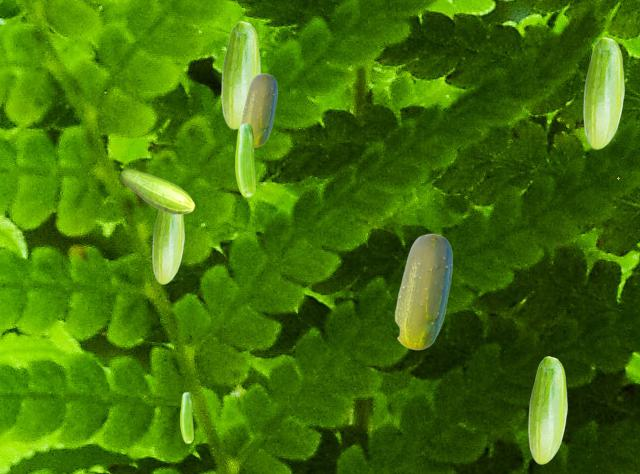cucumber: (394, 233, 451, 349), (583, 37, 623, 148), (221, 21, 259, 128), (528, 356, 566, 463), (120, 169, 194, 214), (240, 73, 276, 146), (152, 210, 183, 283), (235, 123, 254, 196), (180, 392, 192, 442)
